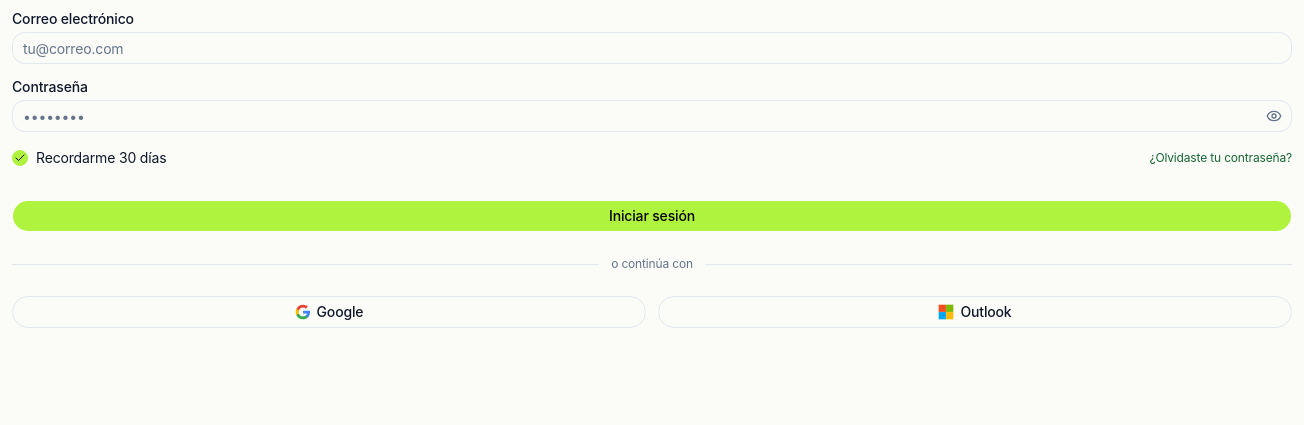
Test: auth password error handling › renders Clerk field and general errors after a rejected sign-in
Step 1. Type "ana@example.com" into the field labelled "Correo electrónico" → (652, 48), box [12, 32, 1292, 64]
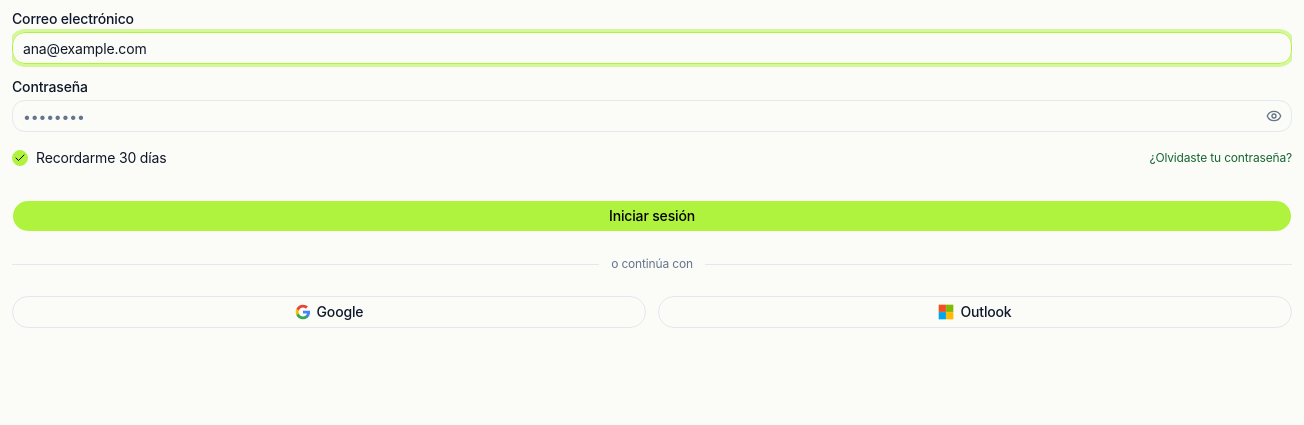
Step 2. Type "secreto" into the password field labelled "Contraseña" → (652, 116), box [12, 100, 1292, 132]
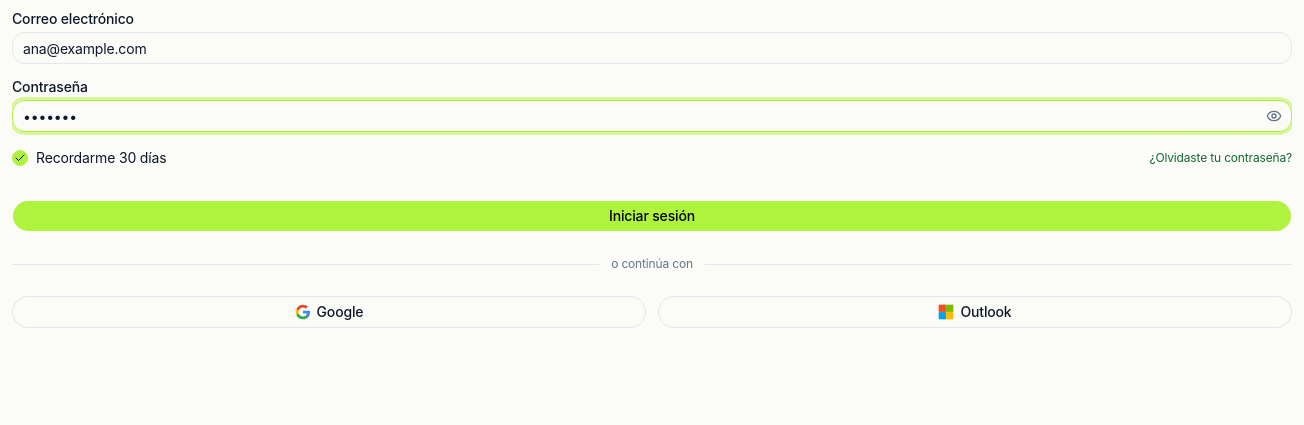
Step 3. Click the button "Iniciar sesión" → (652, 216), box [12, 200, 1292, 232]
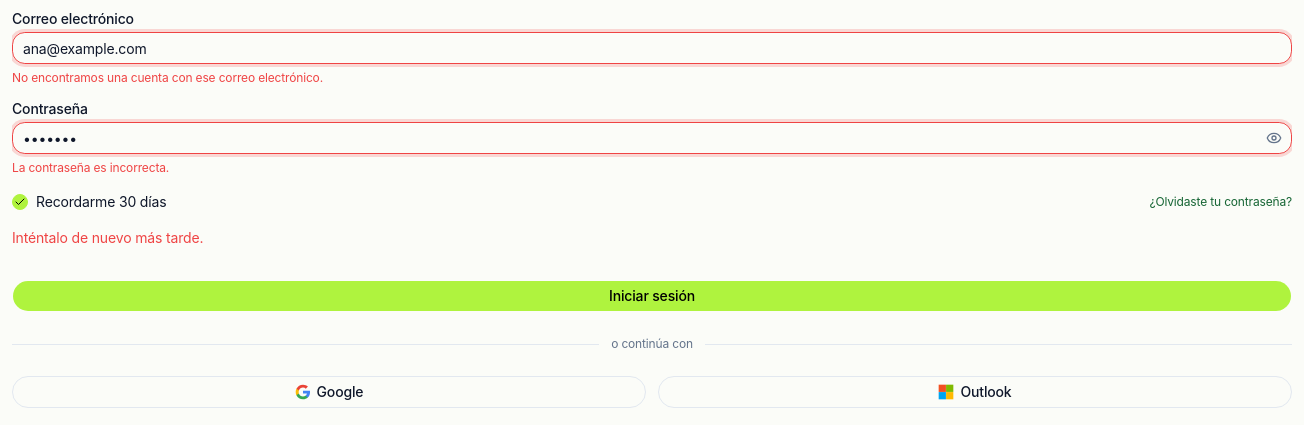
Now the text "No encontramos una cuenta con ese correo electrónico." is shown, box [12, 70, 323, 85]
Now the text "La contraseña es incorrecta." is shown, box [12, 160, 169, 175]
Now the text "Inténtalo de nuevo más tarde." is shown, box [12, 229, 203, 246]
